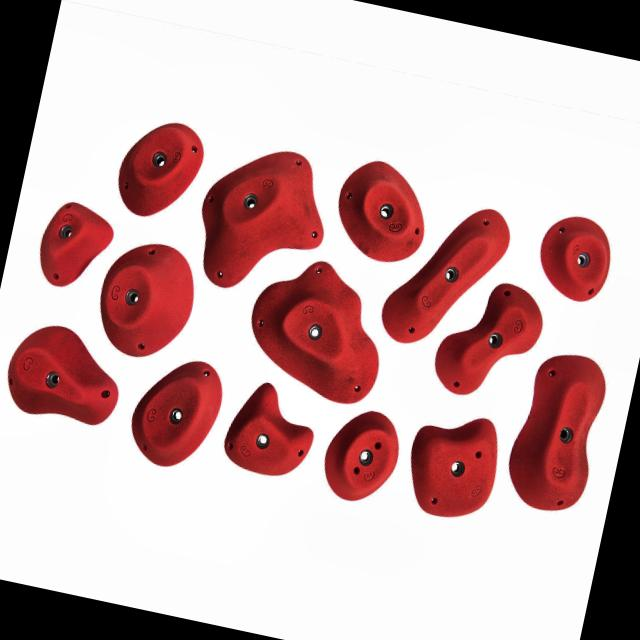Hold: (188, 132, 338, 305), (367, 193, 525, 355), (234, 255, 396, 407), (498, 343, 614, 524), (430, 267, 550, 408), (0, 314, 131, 433), (86, 232, 202, 362), (393, 401, 508, 529), (120, 350, 228, 476), (324, 154, 436, 270), (108, 104, 211, 228), (218, 375, 323, 487), (313, 403, 407, 509), (33, 198, 117, 298), (532, 211, 616, 306)
